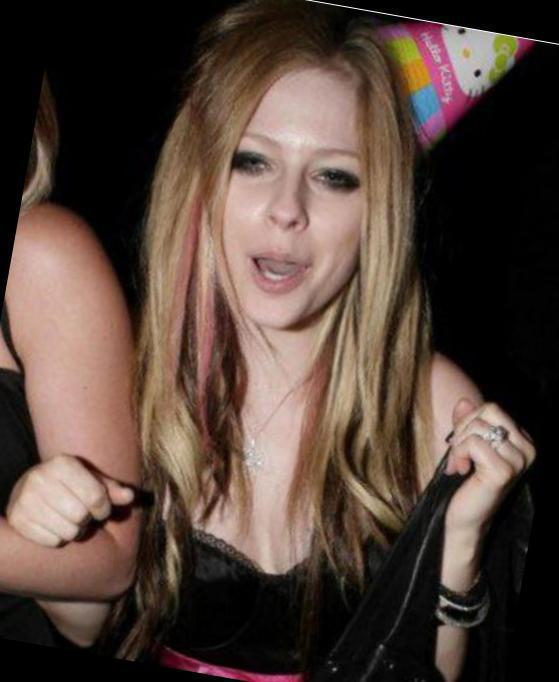Drunk: (221, 80, 362, 319)
